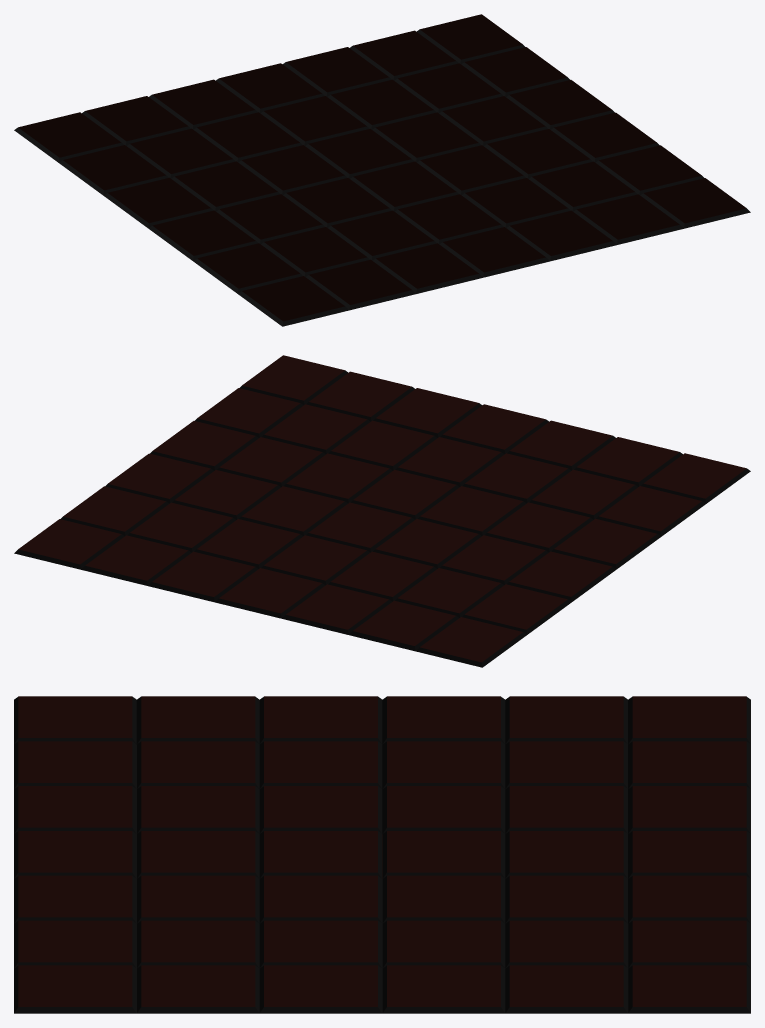
Rendered from Floor 9.fbx.
3 renders of one model, top to bottom at view 1: azimuth 30°, elevation 25°; view 2: azimuth 150°, elevation 25°; view 3: azimuth 270°, elevation 25°, orthographic. The views are drawn at different scales.
Parts seen in each view (by area): view 1: Node 0; view 2: Node 0; view 3: Node 0.
Part boxes in pixels (box(x1,y1,x2,y2)): Node 0: box(14, 14, 750, 326); Node 0: box(14, 355, 750, 667); Node 0: box(14, 696, 750, 1013).
Size of the model in its own units: 5.14 by 0.0371 by 5.18.
